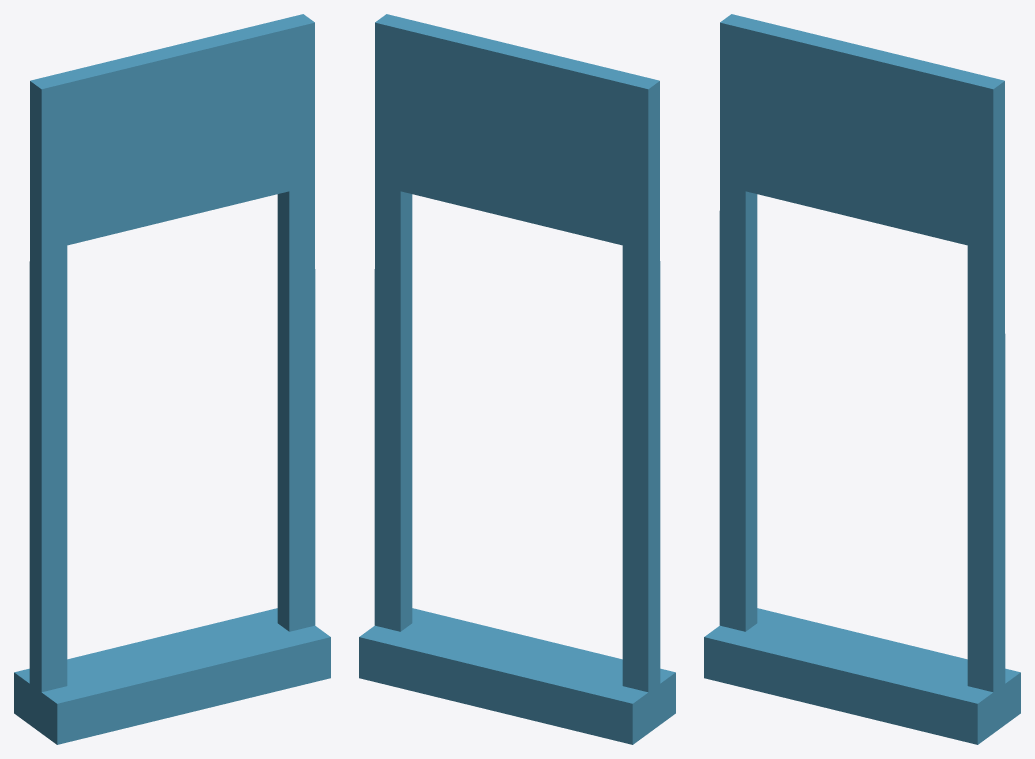
The model's file is windowcolored.fbx.
3 views of the same model, side by side, from view 1: azimuth 30°, elevation 25°; view 2: azimuth 150°, elevation 25°; view 3: azimuth 330°, elevation 25° (orthographic).
Parts seen in each view (by area): view 1: window_01; view 2: window_01; view 3: window_01.
Part boxes in pixels (x1,y1,x2,y2): window_01: [14, 14, 330, 744]; window_01: [359, 14, 675, 744]; window_01: [704, 14, 1020, 744].
Bounding box in the file's own units: 132 × 297 × 36.
